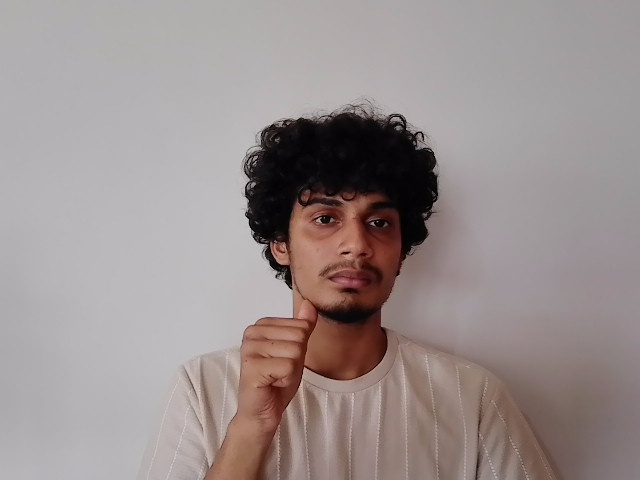not: (242, 291, 400, 409)
